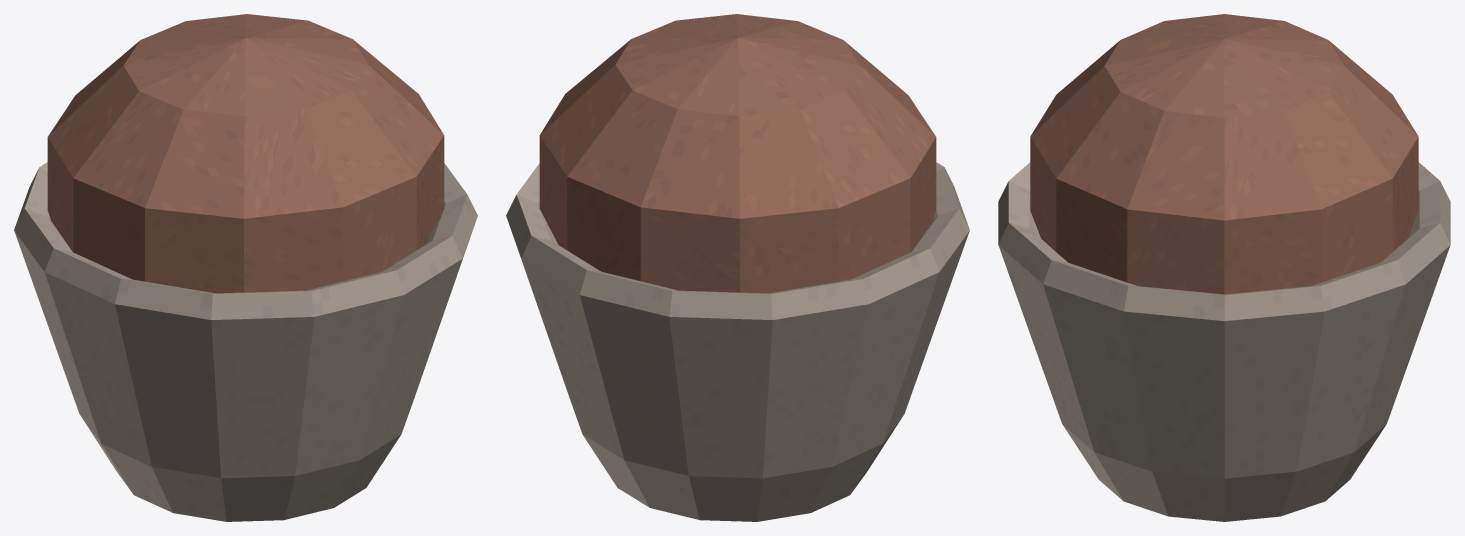
File: icecream_choc.glb
3 views of the same model, side by side, from view 1: azimuth 30°, elevation 25°; view 2: azimuth 150°, elevation 25°; view 3: azimuth 270°, elevation 25° (orthographic).
Parts seen in each view (by area): view 1: block_frozen scoop, block_dessert dish; view 2: block_frozen scoop, block_dessert dish; view 3: block_frozen scoop, block_dessert dish.
Boxes of the visible parts, <box> form: block_frozen scoop: <box>47,14,444,293</box>; block_dessert dish: <box>14,162,477,521</box>; block_frozen scoop: <box>539,14,936,293</box>; block_dessert dish: <box>506,162,969,521</box>; block_frozen scoop: <box>1030,14,1418,294</box>; block_dessert dish: <box>998,162,1450,521</box>.
Bounding box in the file's own units: 0.118 × 0.1203 × 0.1151.
1 material, 1 textured.
